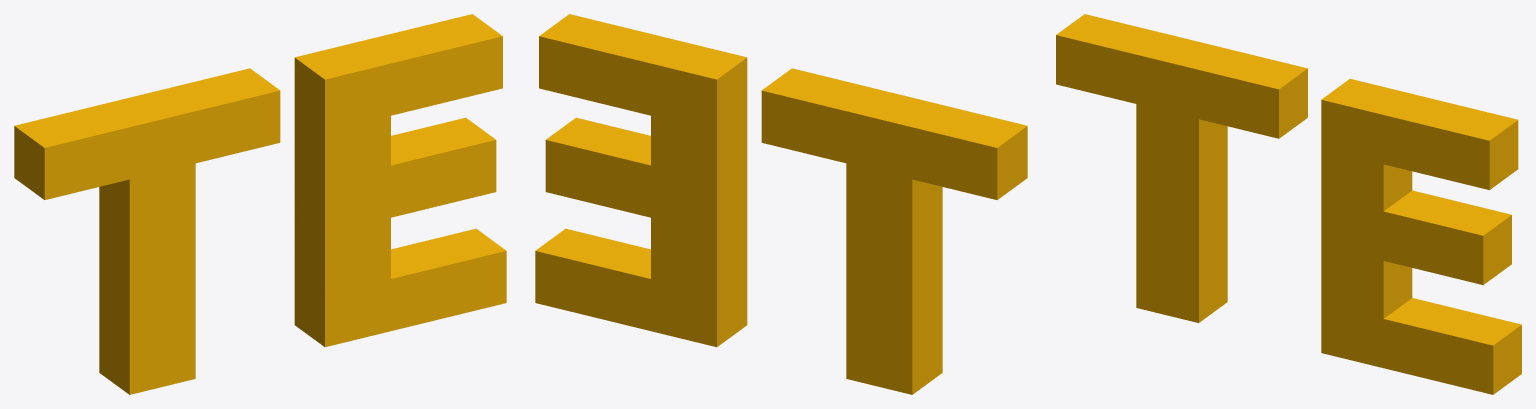
The model's file is suku_besar_te.glb.
The picture shows the model from 3 angles, left to right: view 1: azimuth 30°, elevation 25°; view 2: azimuth 150°, elevation 25°; view 3: azimuth 330°, elevation 25°; orthographic projection. The views are drawn at different scales.
Visible parts, largest first — view 1: geometry_0; view 2: geometry_0; view 3: geometry_0.
Boxes of the visible parts, x1,y1,x2,y2 form: geometry_0: [14, 14, 506, 394]; geometry_0: [535, 14, 1027, 394]; geometry_0: [1056, 14, 1521, 394].
Size of the model in its own units: 13.17 by 7.29 by 1.5.
